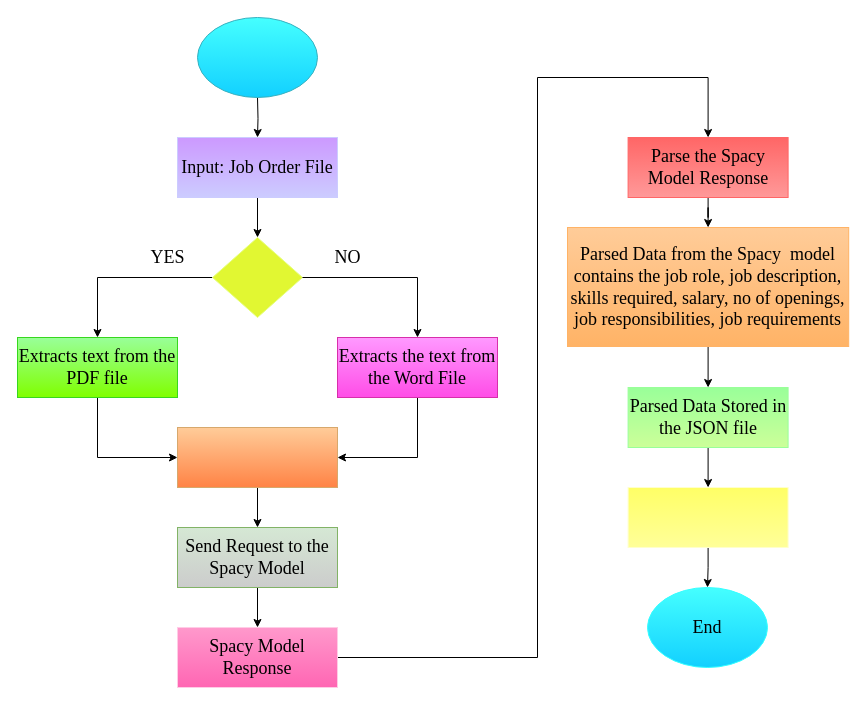
This 867x705 diagram has some shape labels left out. The shapes that lost their labels are listed below. From the top down, each one's centre as x and y in pixels, then its label:
(257,57): Start
(257,277): is PDF
(257,457): Extracted Text
(707,517): Output 2
